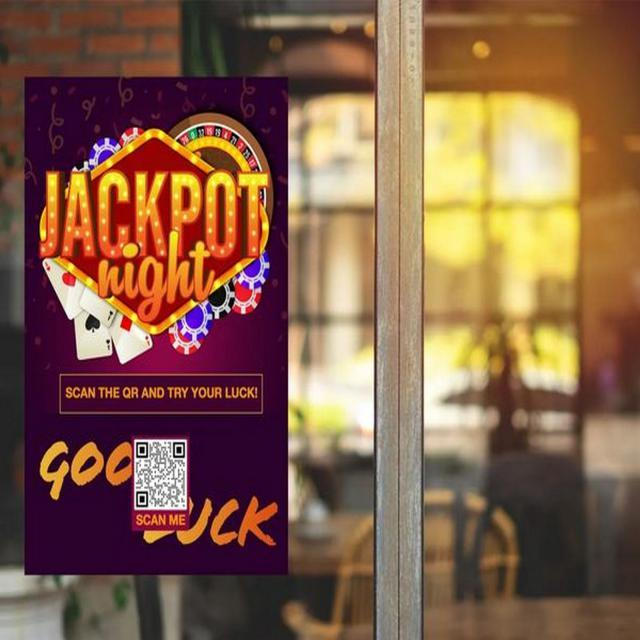qr_code: (136, 442, 185, 508)
